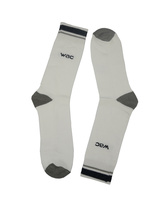sock: (29, 19, 90, 181), (80, 23, 140, 185)
